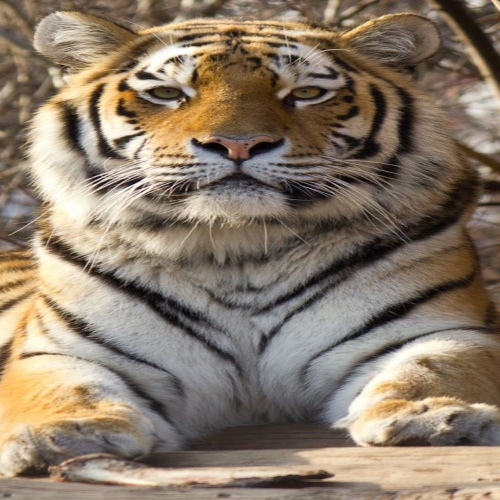tiger: (15, 2, 485, 388)
